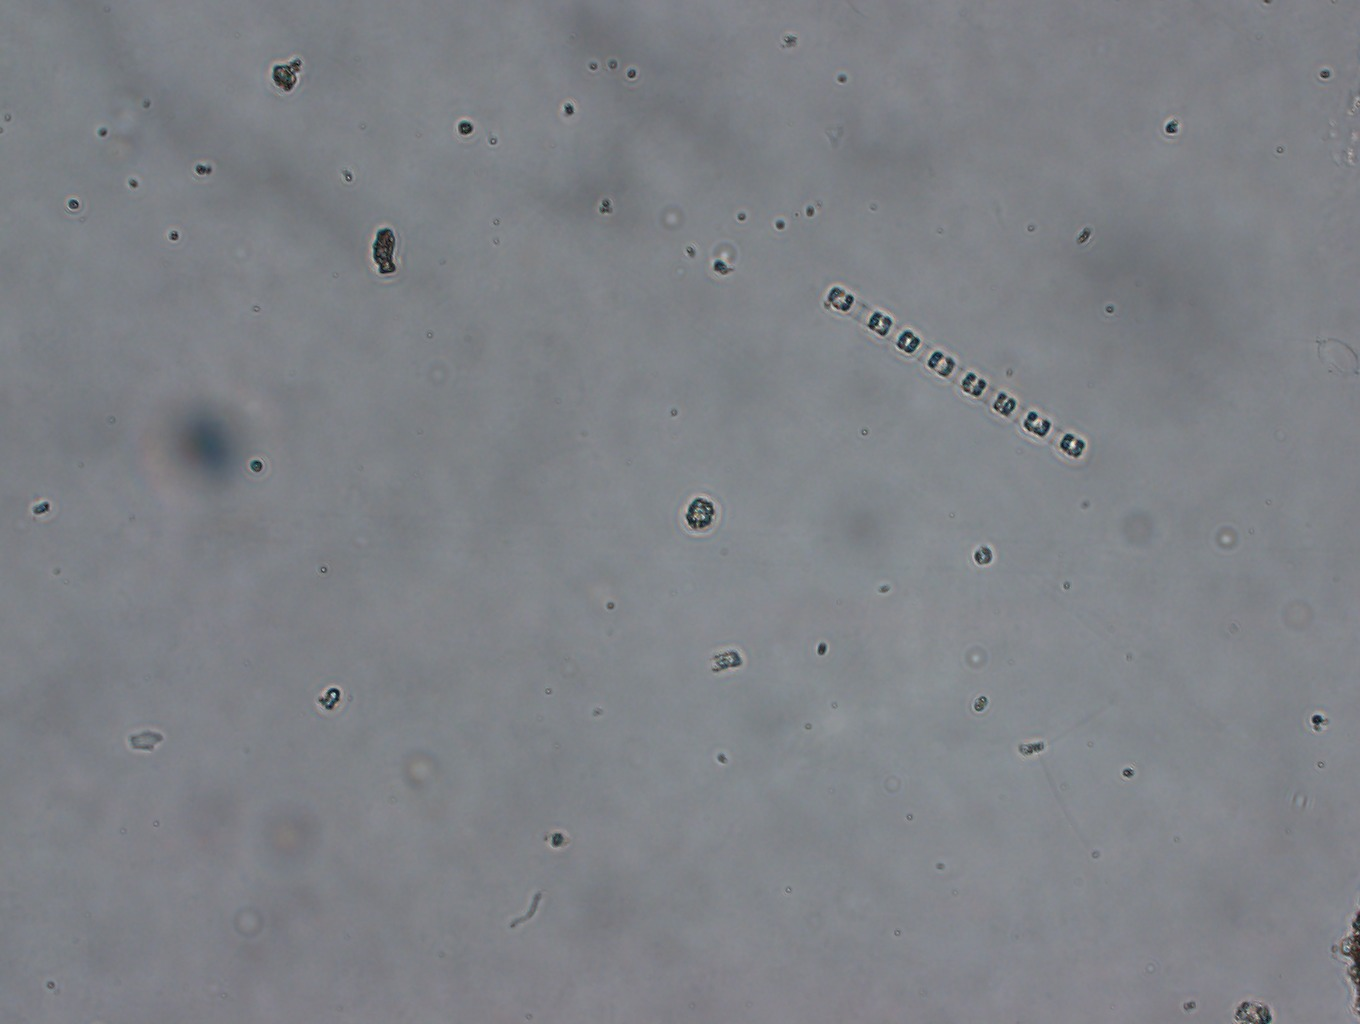skeletonema: (819, 280, 1090, 461)
